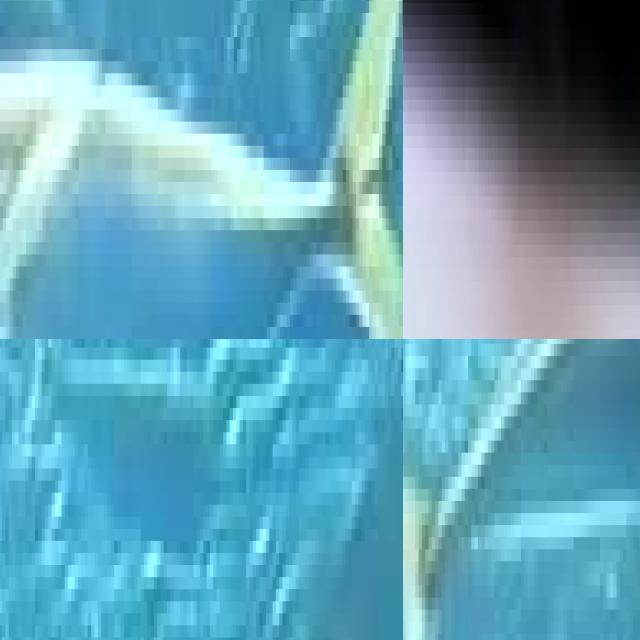fish: (0, 0, 403, 339), (403, 339, 640, 640)
